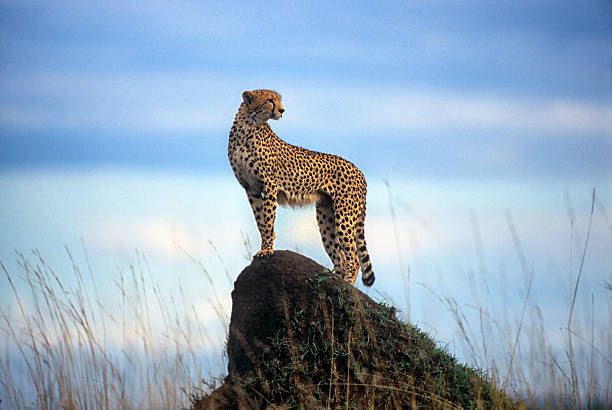cheetah: (235, 82, 294, 128)
